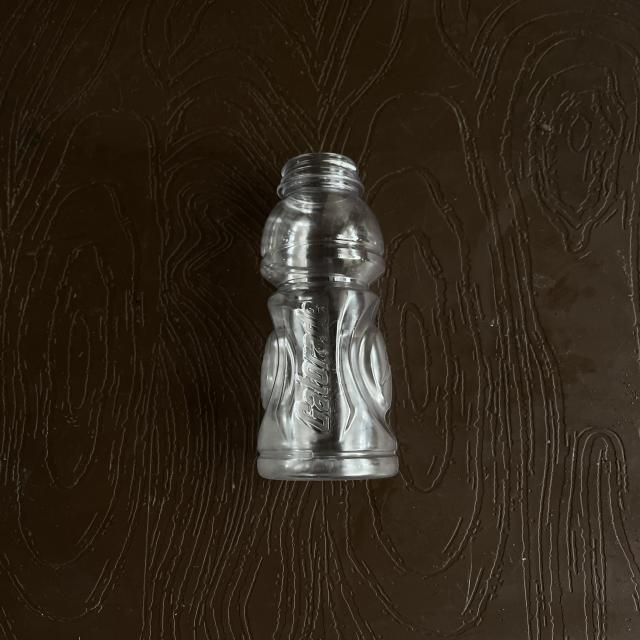PET_ClearBottle: (230, 143, 608, 626)
